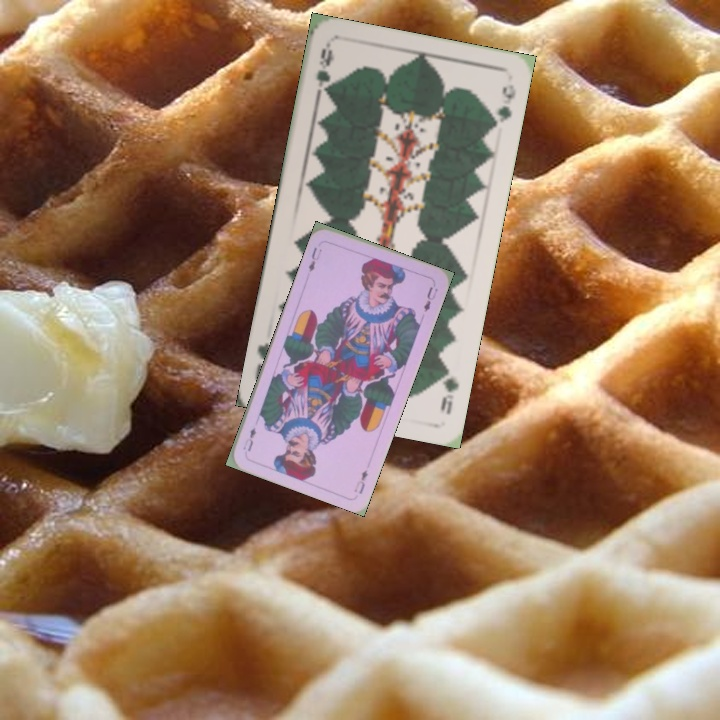EU: (304, 243, 325, 275), (350, 466, 371, 497)
G9: (436, 359, 462, 417), (312, 41, 336, 100)
